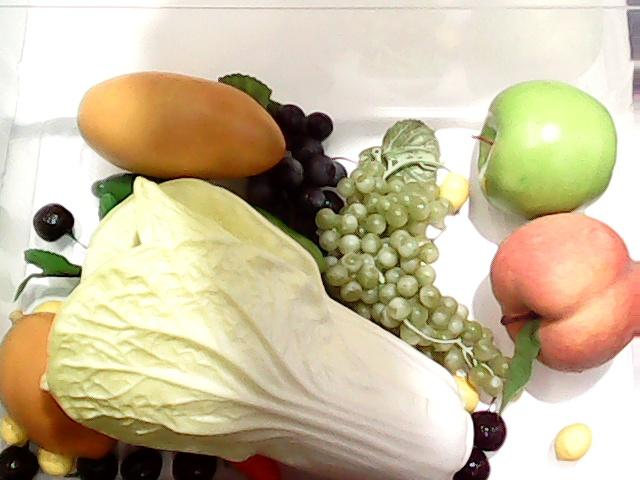apple: (472, 79, 620, 221)
carrot: (224, 449, 280, 479)
grape: (292, 156, 492, 378)
lemon: (0, 301, 124, 463)
mango: (59, 54, 304, 182)
napa cabbage: (43, 175, 464, 480)
peach: (488, 212, 640, 374)
pepper: (92, 160, 328, 296)
